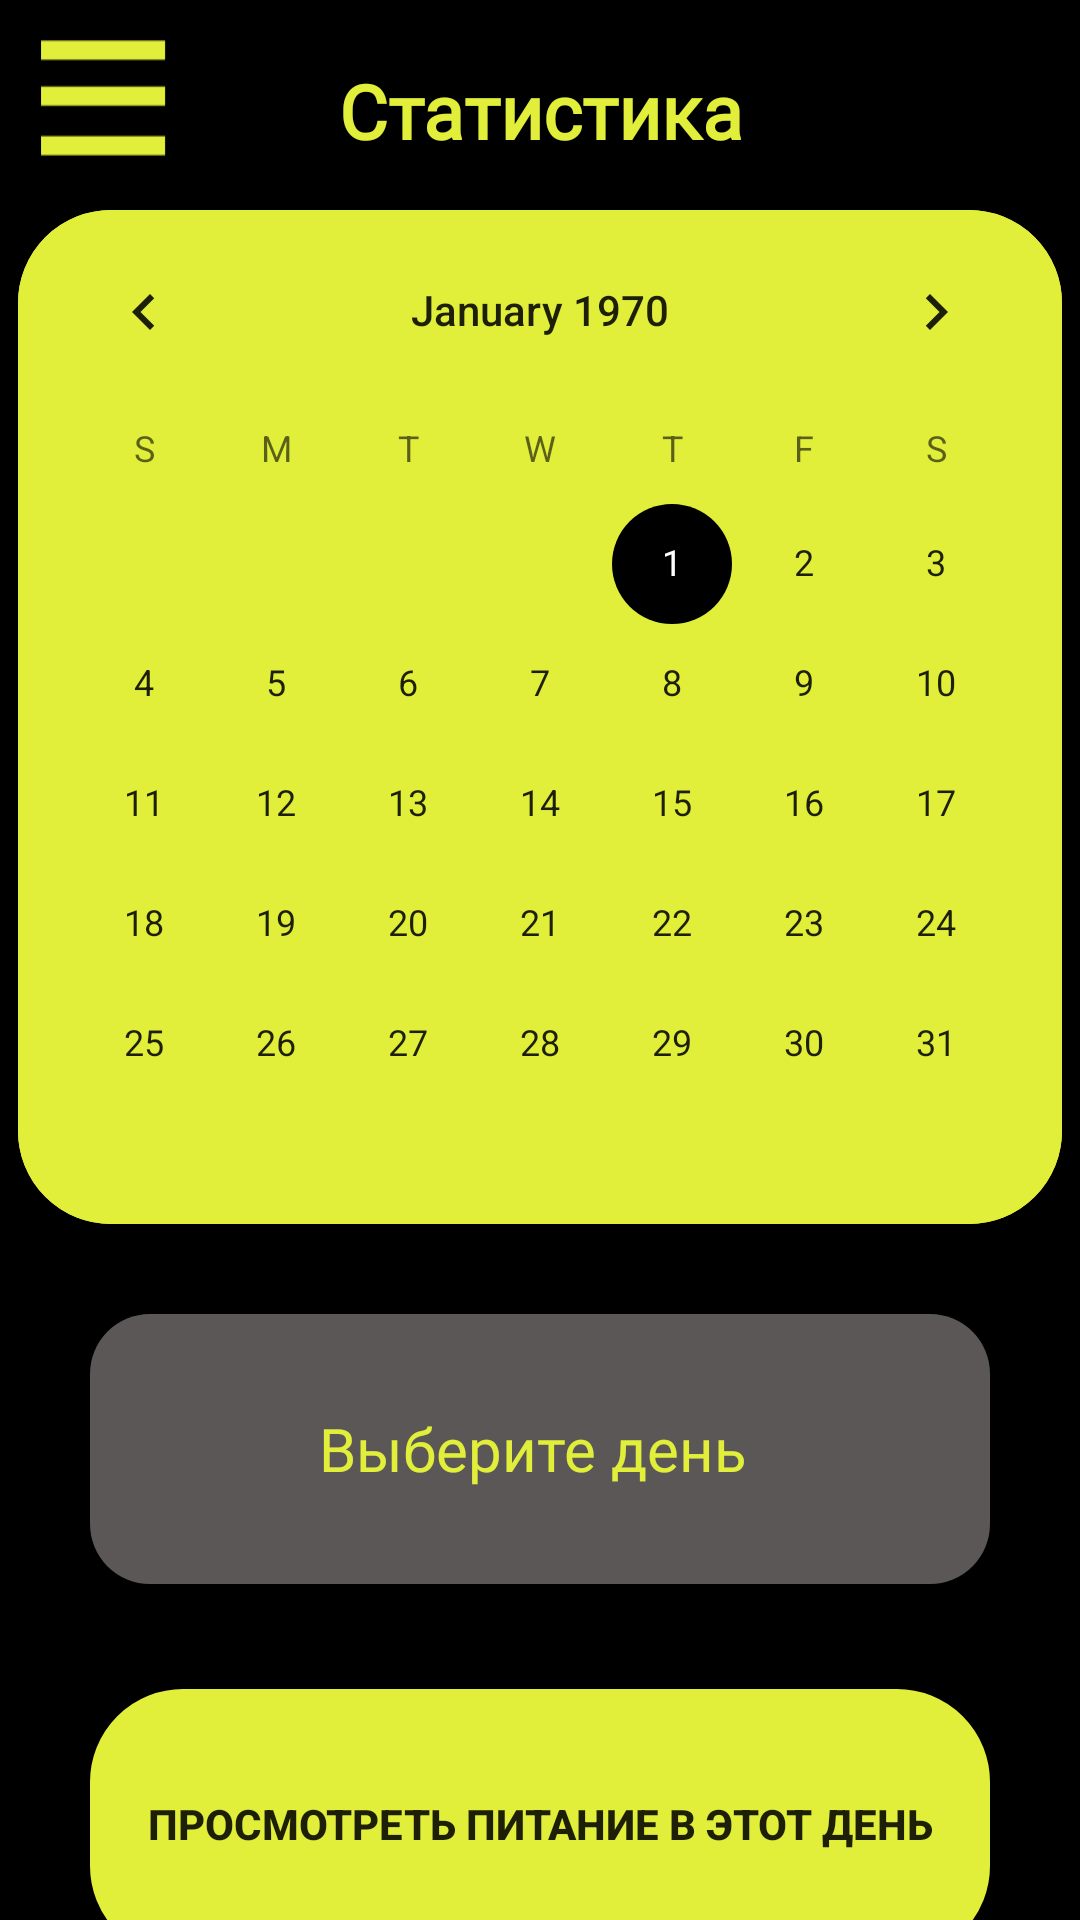

Point at icon controls on the screen. Image size 1080*1920, points as point (x, y).
menu: point (103, 98)
